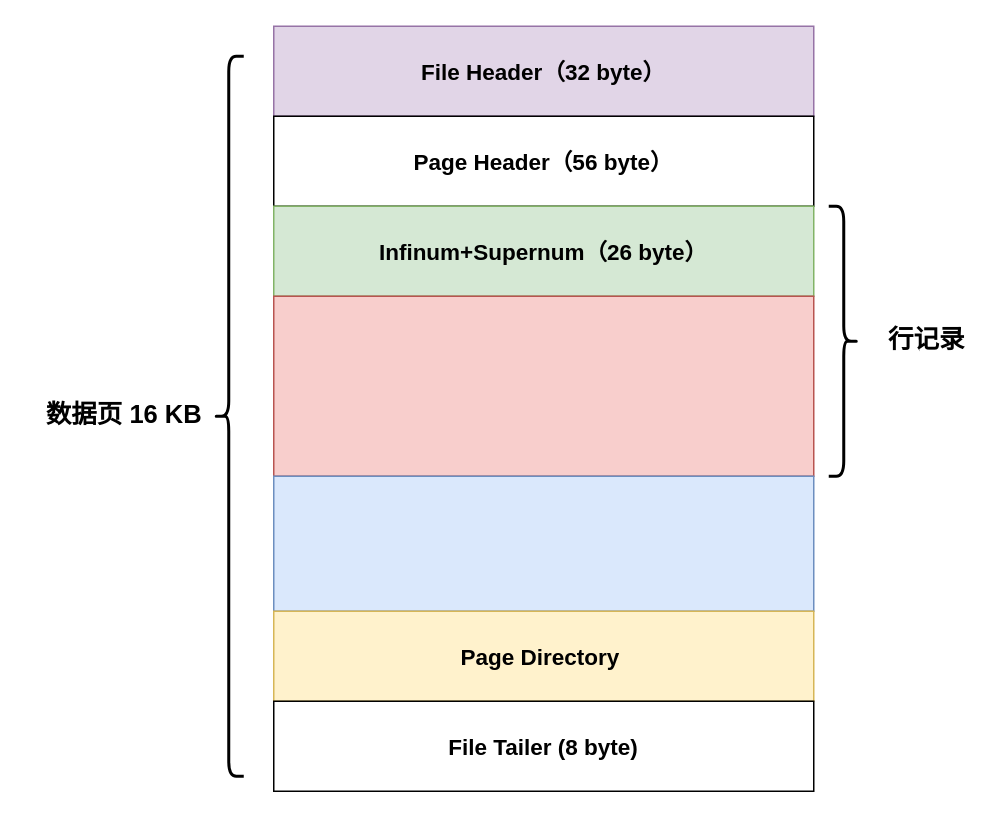
The diagram is 1004 pixels wide and 818 high, and some of its shapes have lost their labels. Here are the shapes that lost their labels. From the top down, the centre of each, then its label:
At (543,385): "User Records".
At (543,543): "Free Space".
